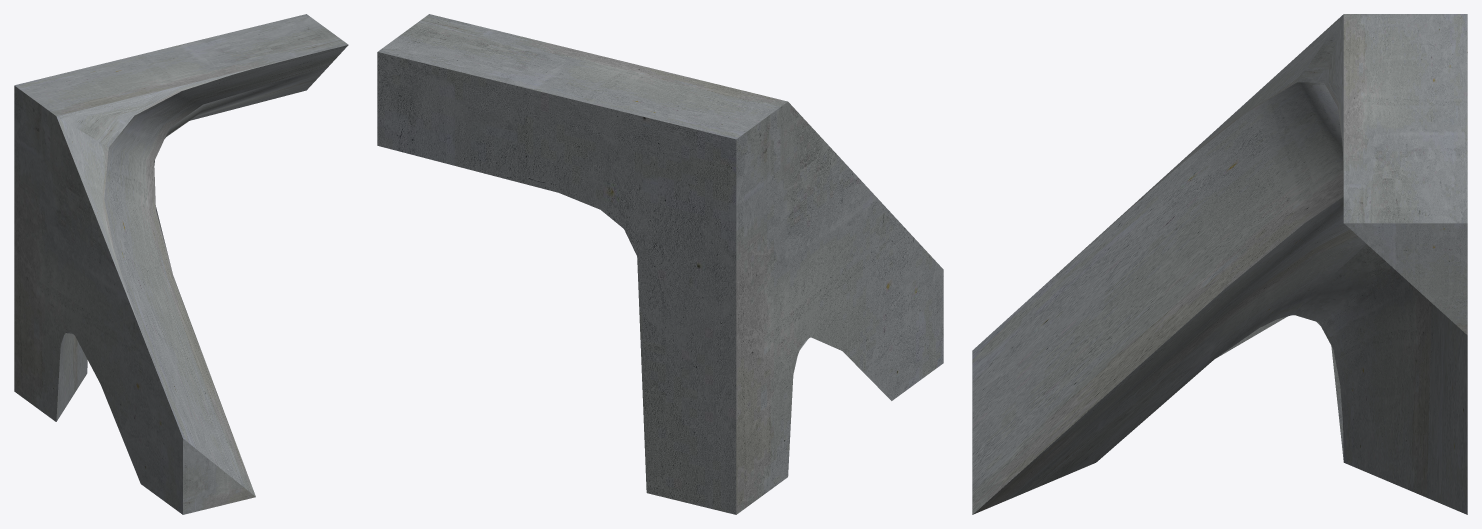
Rendered from module_I2.fbx.
3 views of the same model, side by side, from view 1: azimuth 30°, elevation 25°; view 2: azimuth 150°, elevation 25°; view 3: azimuth 270°, elevation 25° (orthographic). The views are drawn at different scales.
Parts seen in each view (by area): view 1: modules; view 2: modules; view 3: modules.
Part boxes in pixels (x1,y1,x2,y2): modules: (14,14,348,514); modules: (377,14,943,514); modules: (972,14,1467,514).
Size of the model in its own units: 1000 by 1000 by 1000.
Materials: 1 (1 with a texture image).
